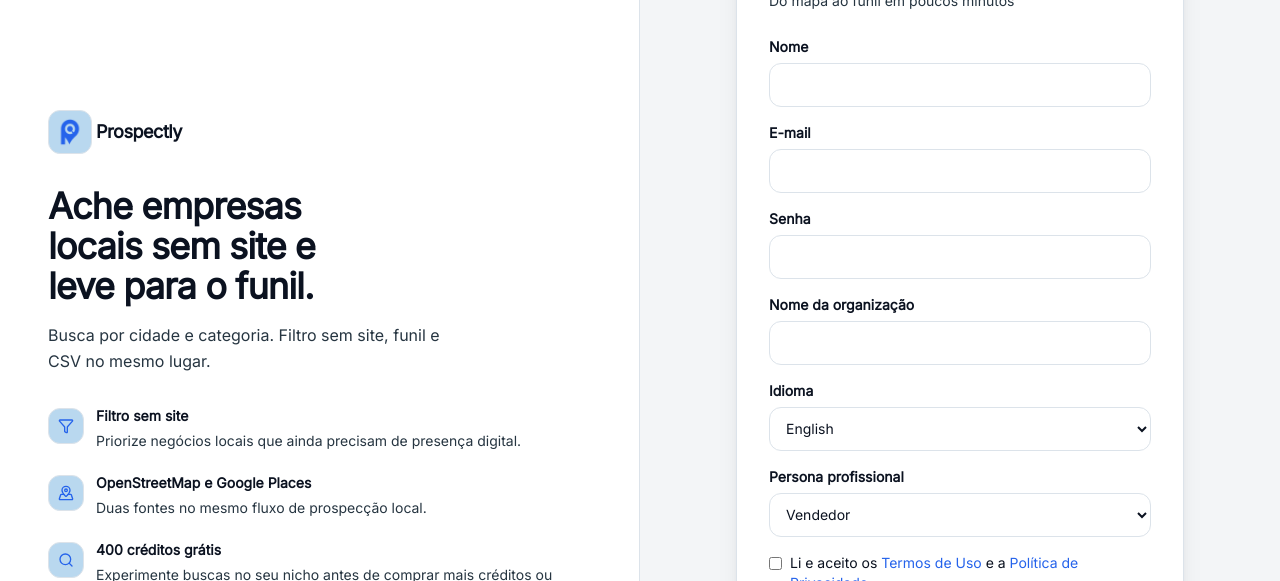
Test: RegisterPage › translates rate limited responses
In the field labelled "Nome": (960, 85) [769, 63, 1151, 107], type "Demo User"
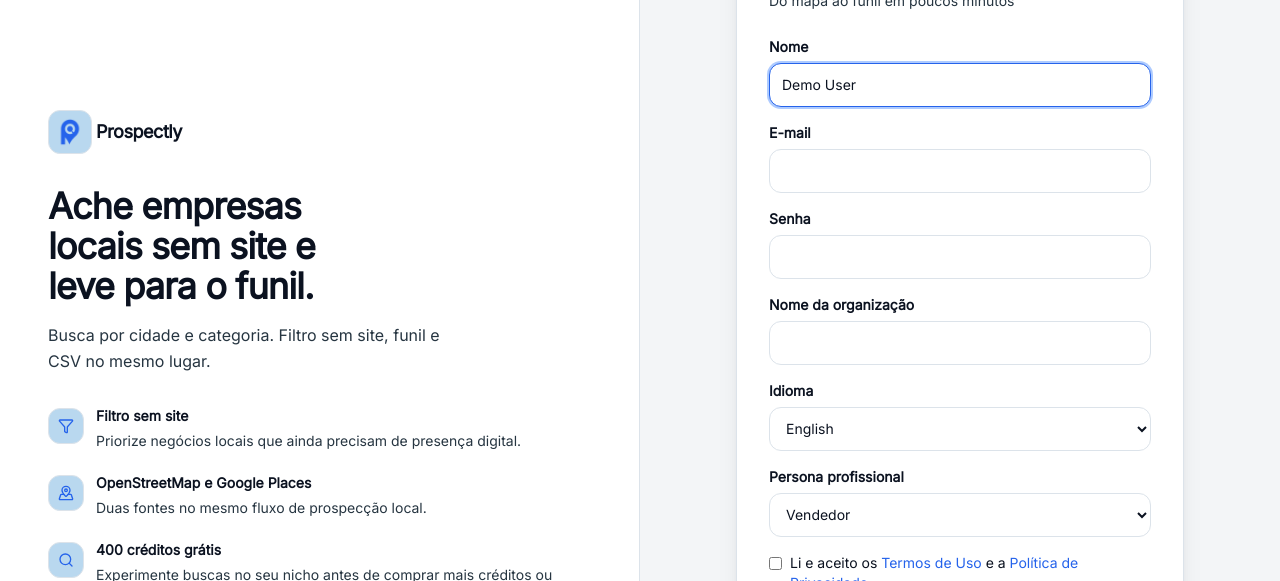
In the field labelled "E-mail": (960, 171) [769, 149, 1151, 193], type "demo@prospectly.dev"
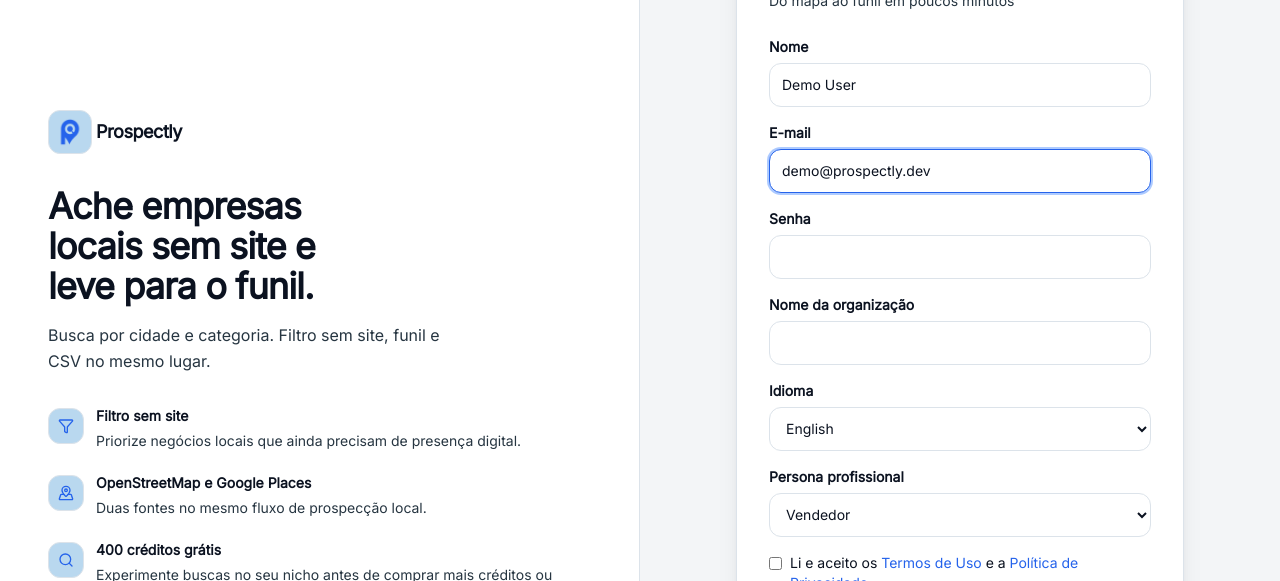
In the password field labelled "Senha": (960, 257) [769, 235, 1151, 279], type "secret12"
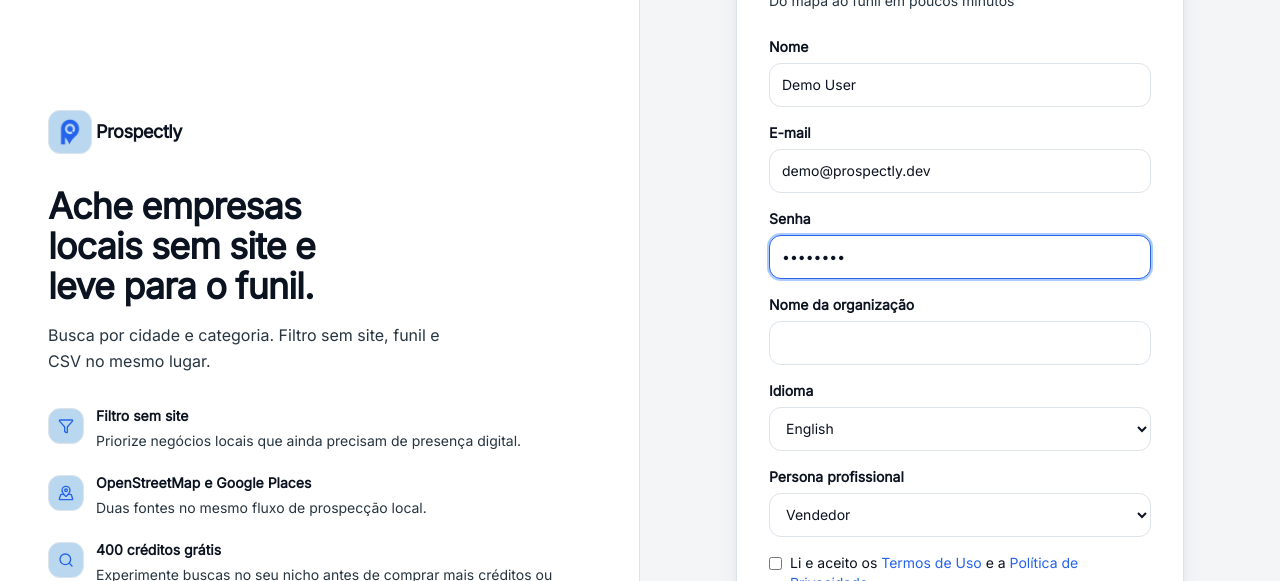
In the field labelled "Nome da organização": (960, 343) [769, 321, 1151, 365], type "Demo Organization"
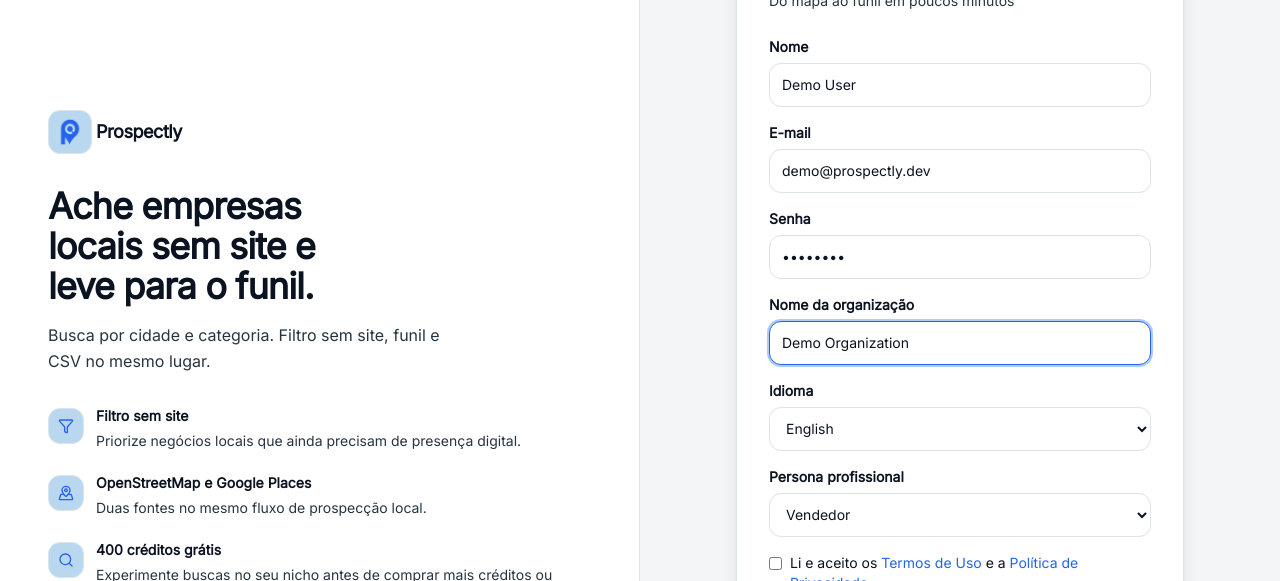
Click the checkbox: (776, 563) [769, 557, 782, 570]
(page scrolled)
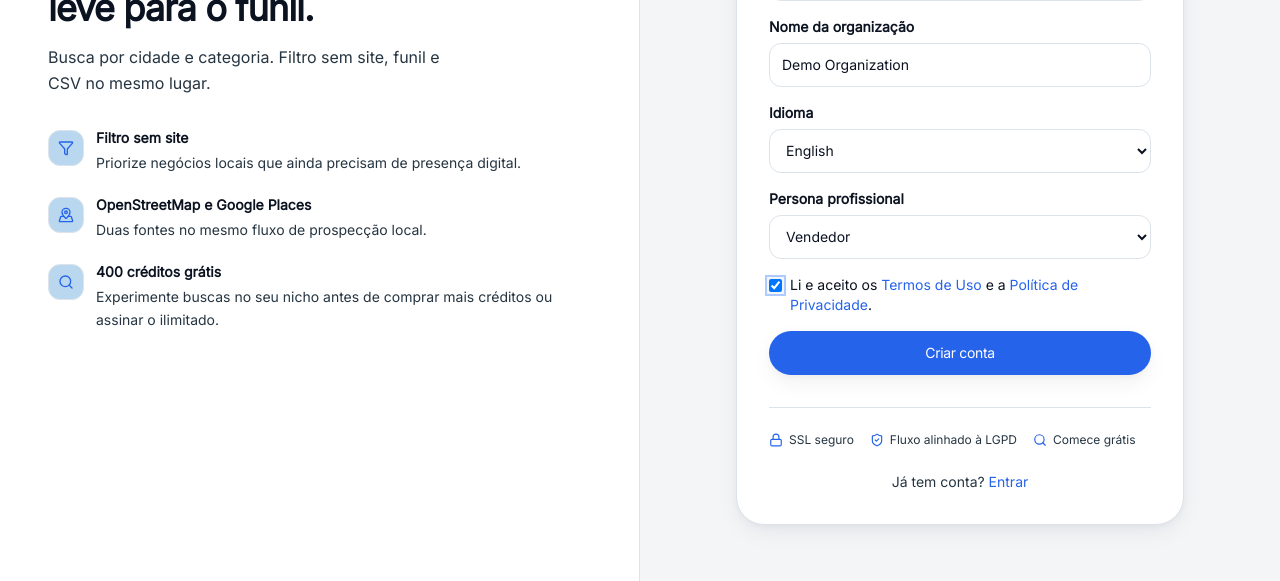
Click the button "Criar conta": (960, 353) [769, 331, 1151, 375]
(page scrolled)
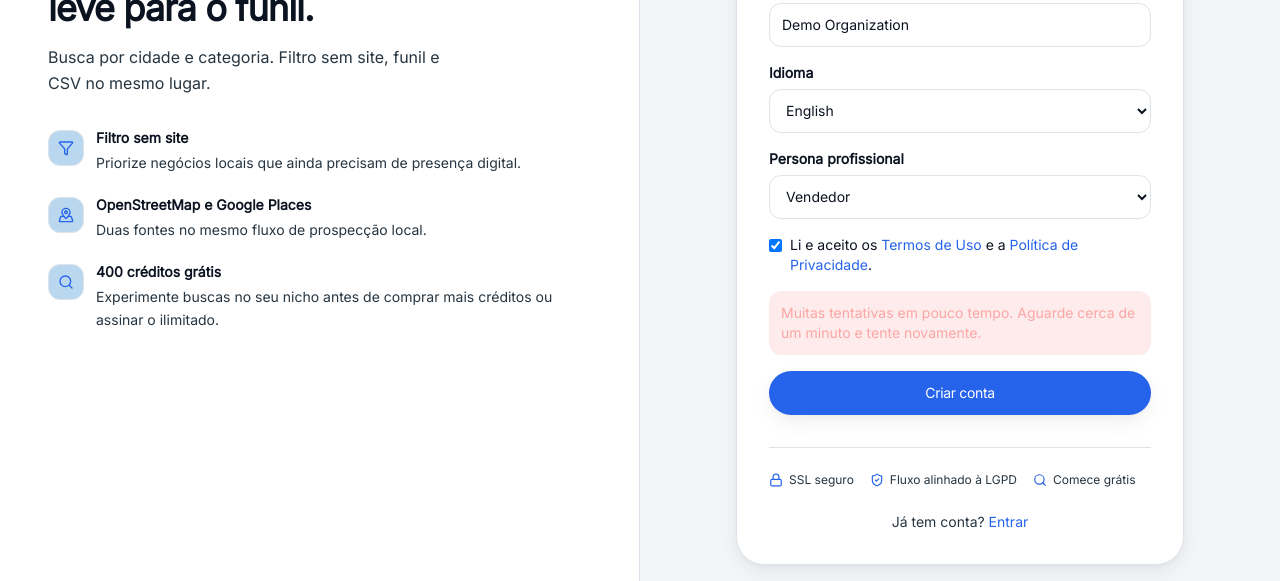
Expected: the text "Muitas tentativas em pouco tempo. Aguarde cerca de um minuto e tente novamente." is shown, [769, 291, 1151, 355]
